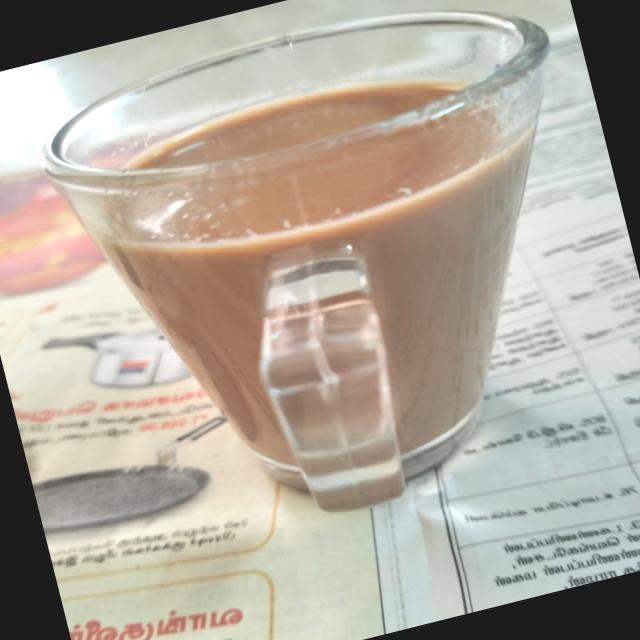glass-VX4N: (25, 0, 640, 570)
